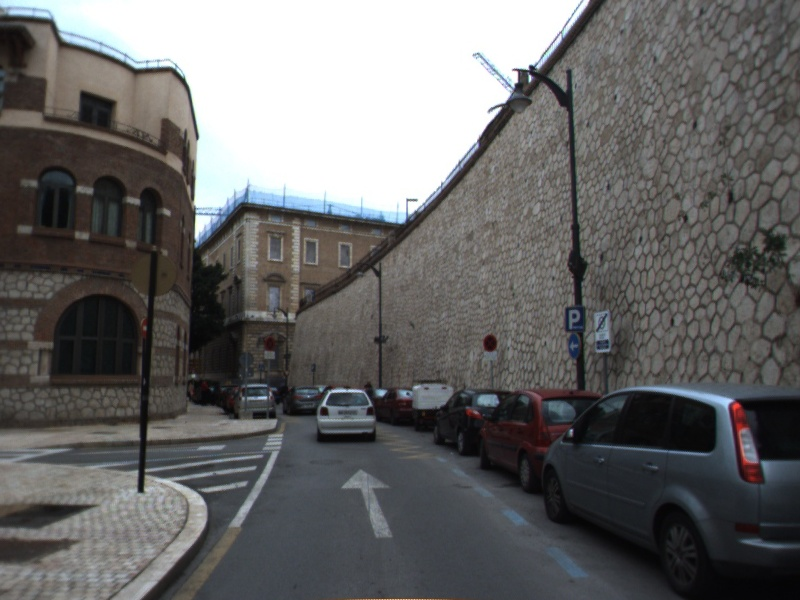STRAIGHT: (340, 467, 395, 540)
